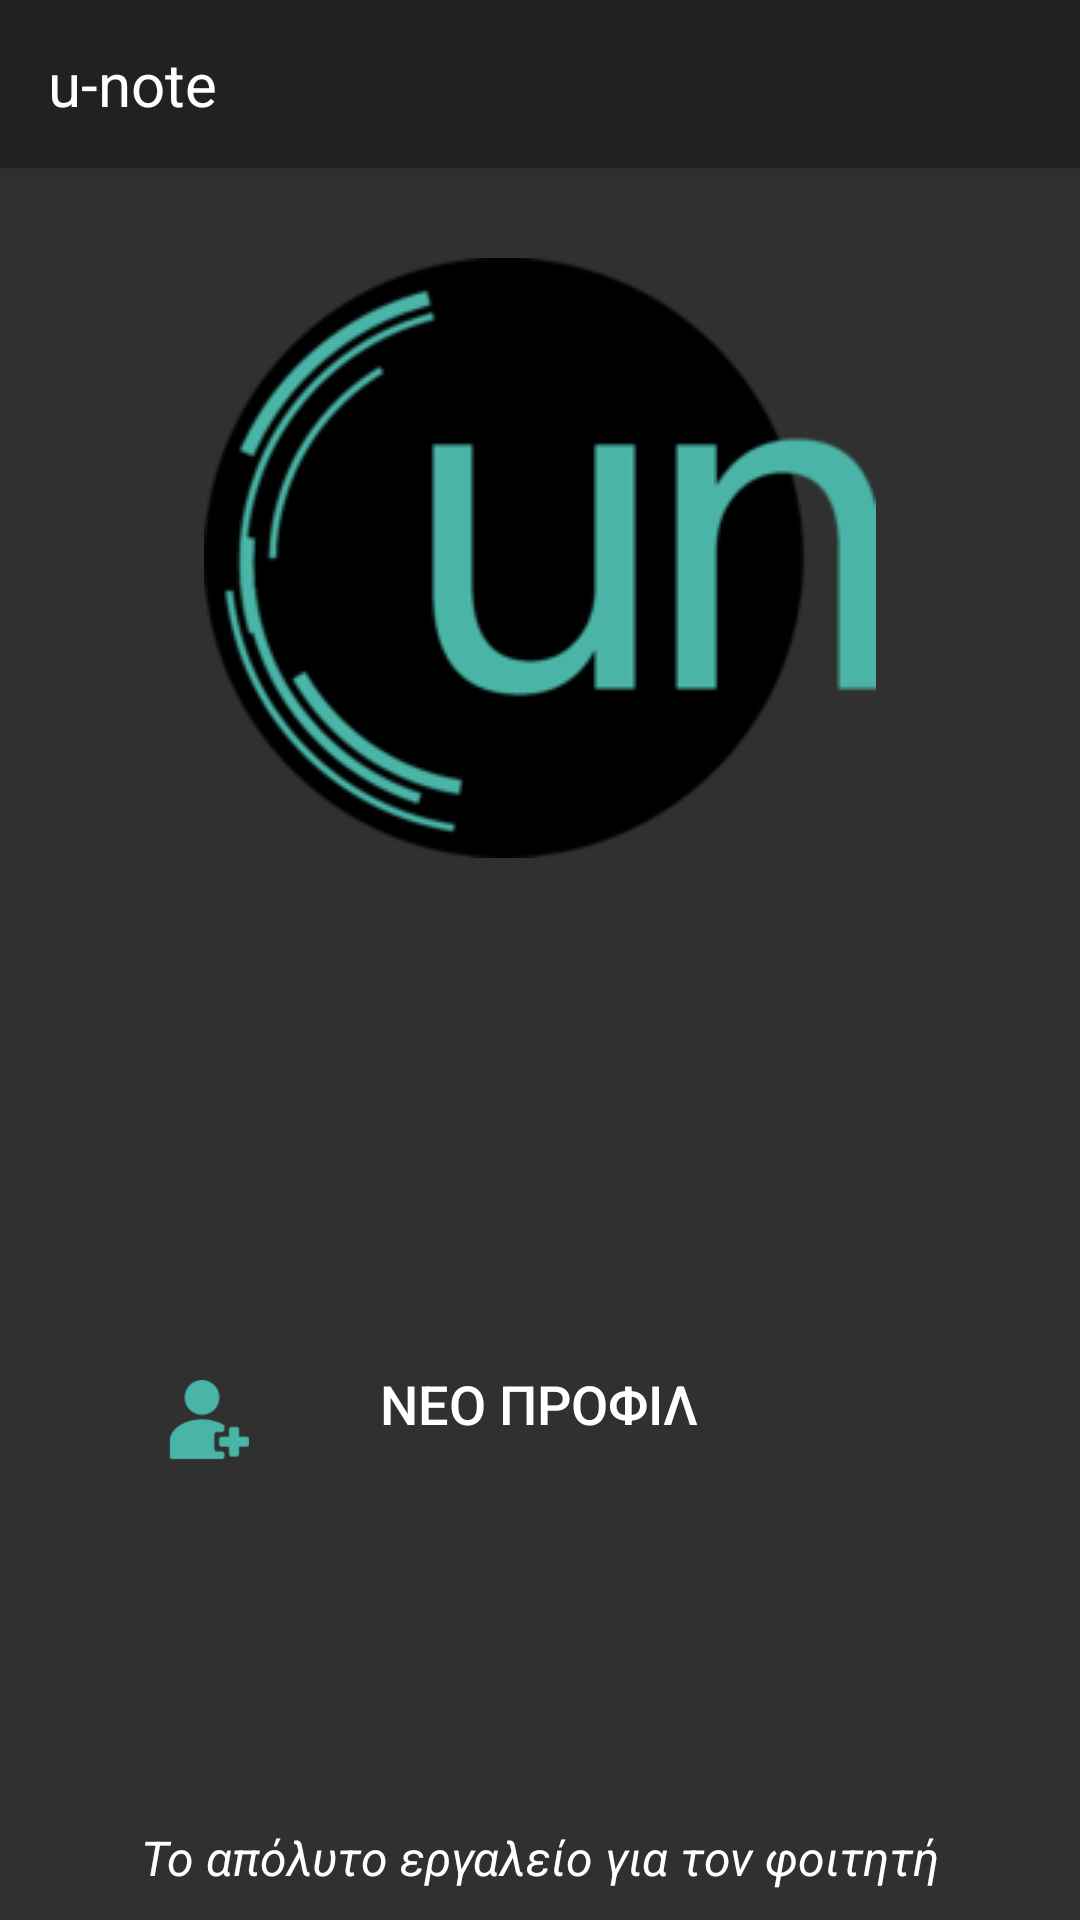

Screen size 1080px x 1920px. Icon name, then its box in pixels as Rect(x1, y1, x2, y2):
profile: Rect(169, 1380, 249, 1459)
